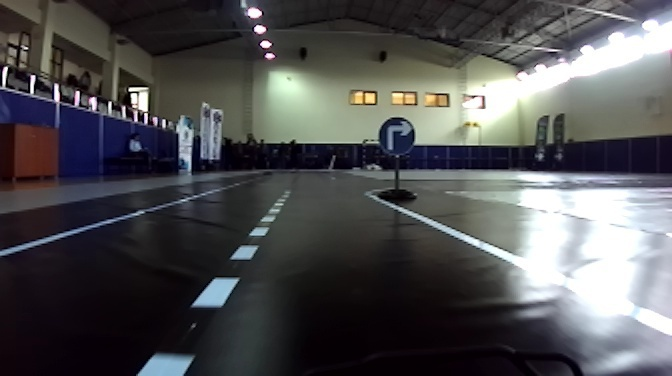saga_donus: (376, 115, 416, 155)
